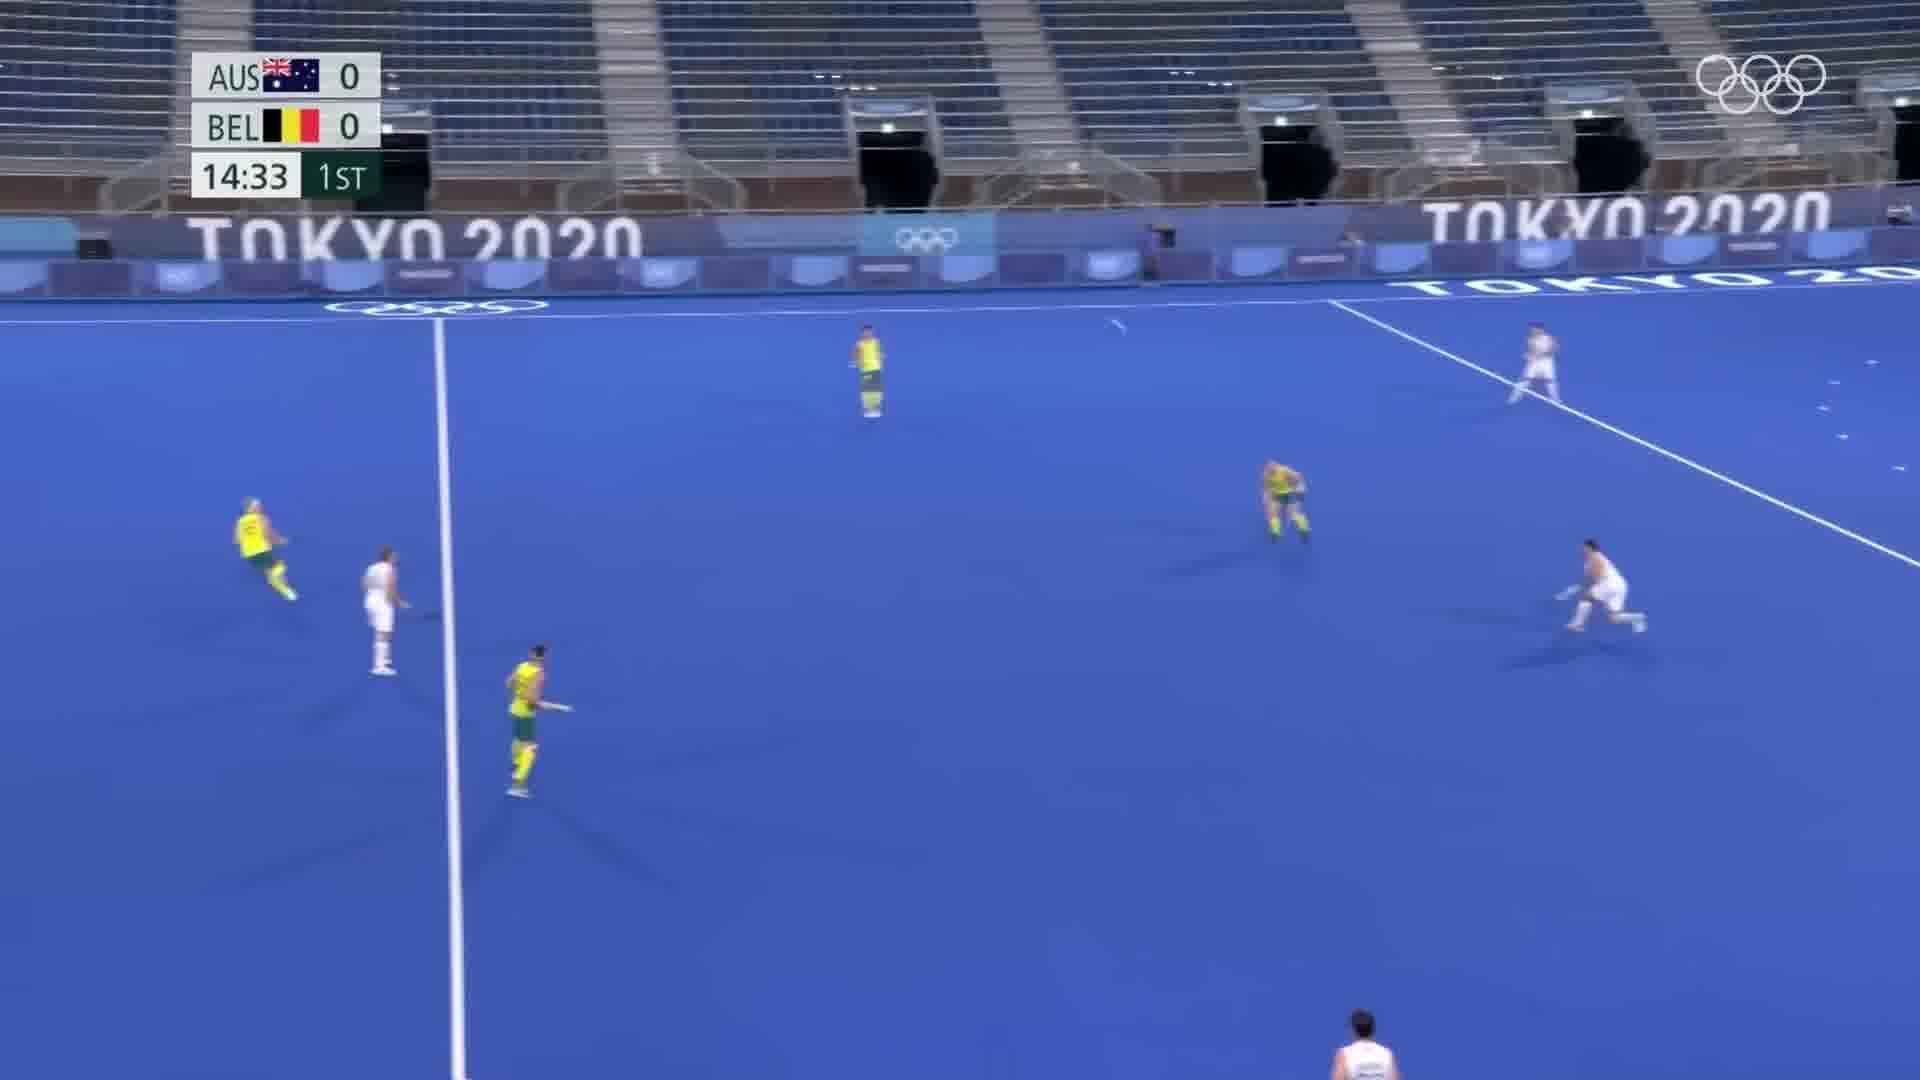ball: (1095, 307, 1134, 345)
